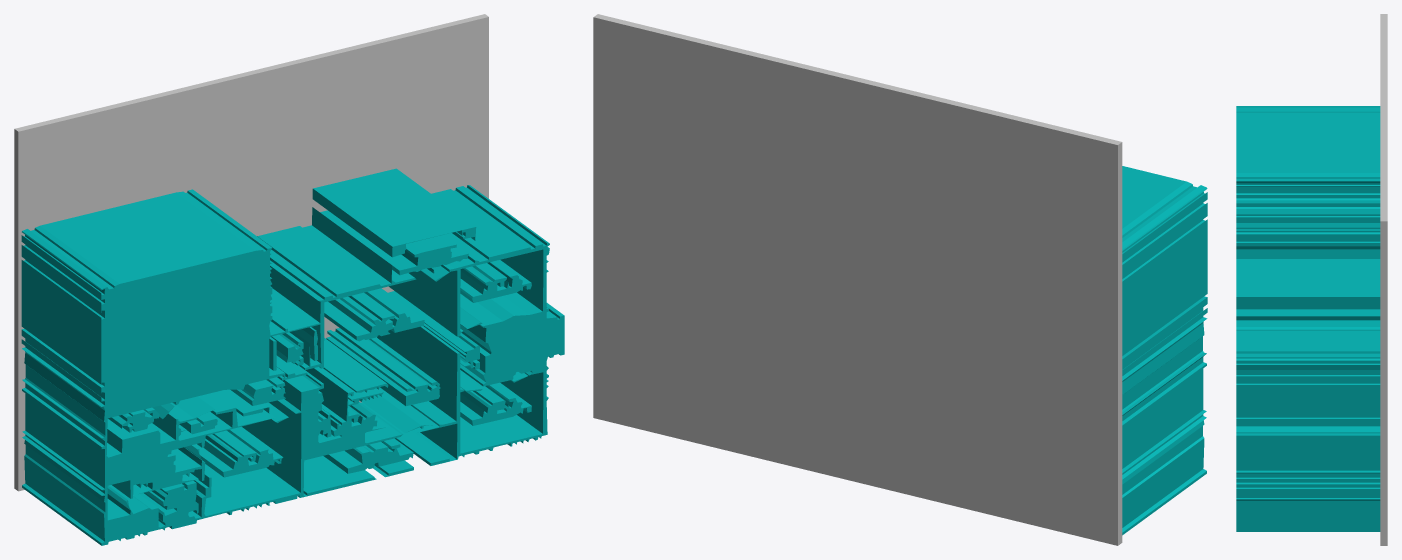
The picture shows the model from 3 angles, left to right: view 1: azimuth 30°, elevation 25°; view 2: azimuth 150°, elevation 25°; view 3: azimuth 270°, elevation 25°; orthographic projection. The views are drawn at different scales.
Visible parts, largest first — view 1: world; view 2: world; view 3: world.
Part boxes in pixels (<box>): world: <box>14,14,564,545</box>; world: <box>593,14,1207,545</box>; world: <box>1236,14,1387,545</box>.
Bounding box in the file's own units: 10.23 × 7.47 × 3.15.
